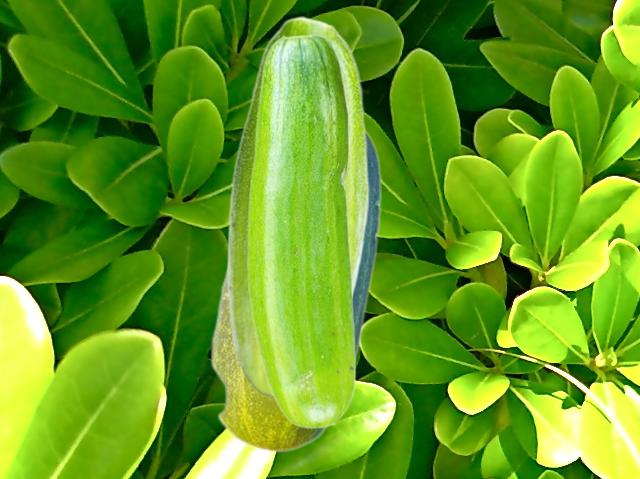cucumber: (209, 128, 380, 452), (226, 16, 368, 397), (247, 33, 355, 428)
